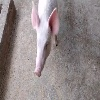heo: (28, 1, 61, 79)
